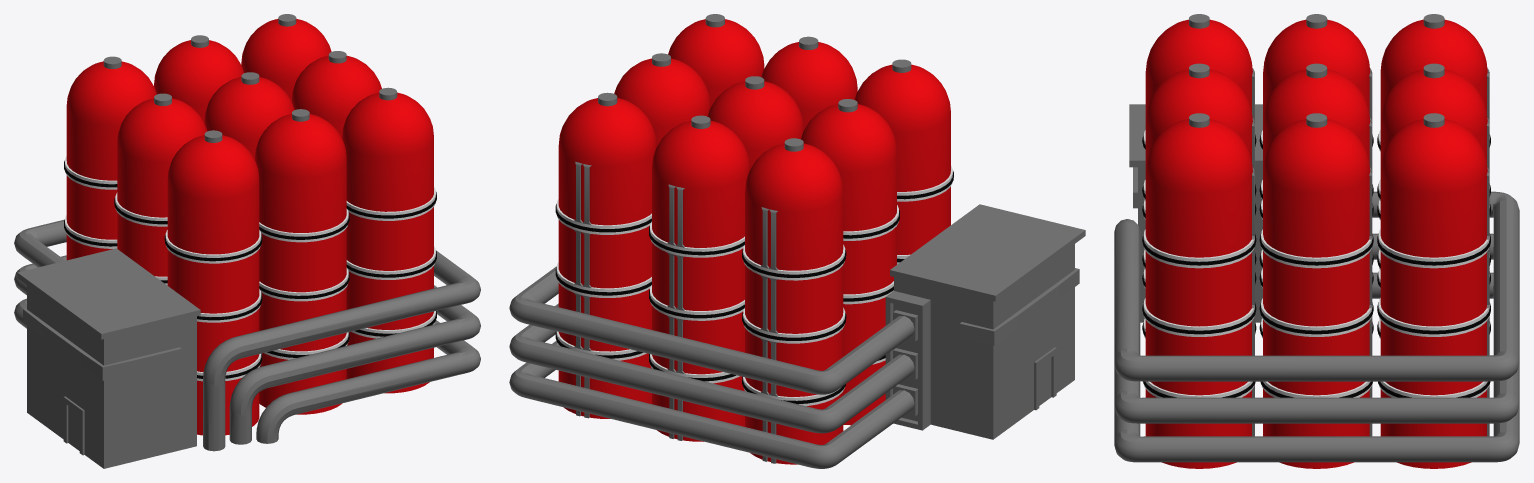
Rendered from FábricaBeta.fbx.
3 views of the same model, side by side, from view 1: azimuth 30°, elevation 25°; view 2: azimuth 150°, elevation 25°; view 3: azimuth 270°, elevation 25° (orthographic). The views are drawn at different scales.
Visible parts, largest first — view 1: FábricaBeta; view 2: FábricaBeta; view 3: FábricaBeta.
Part boxes in pixels (bbox=[...]): FábricaBeta: bbox=[14, 14, 480, 468]; FábricaBeta: bbox=[509, 14, 1085, 468]; FábricaBeta: bbox=[1114, 14, 1519, 468].
Bounding box in the file's own units: 2859 × 2071 × 2269.
